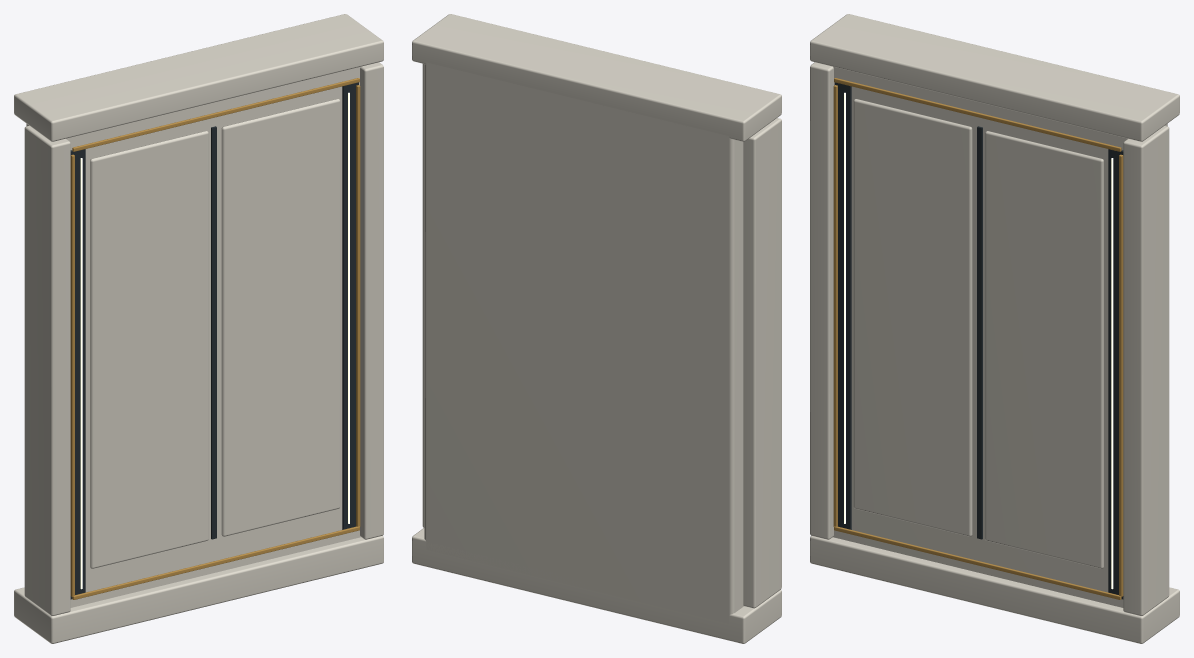
Rendered from SM_Aurelion_RecessPanel_2m.fbx.
3 renders of one model, left to right at view 1: azimuth 30°, elevation 25°; view 2: azimuth 150°, elevation 25°; view 3: azimuth 330°, elevation 25°, orthographic.
Parts seen in each view (by area): view 1: SM_Aurelion_RecessPanel_2m; view 2: SM_Aurelion_RecessPanel_2m; view 3: SM_Aurelion_RecessPanel_2m.
Boxes of the visible parts, x1,y1,x2,y2 form: SM_Aurelion_RecessPanel_2m: (14,14,383,643); SM_Aurelion_RecessPanel_2m: (412,14,781,643); SM_Aurelion_RecessPanel_2m: (810,14,1179,643).
Size of what is drawn, in the model's own units: 200 by 40 by 300.
